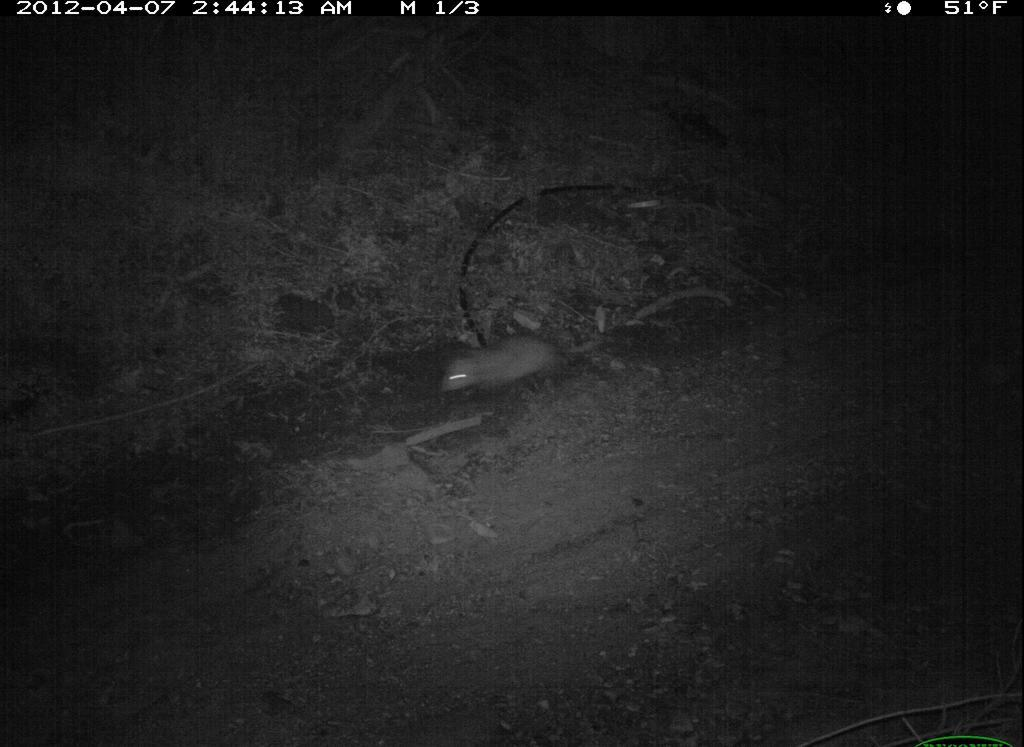opossum: (437, 315, 632, 404)
